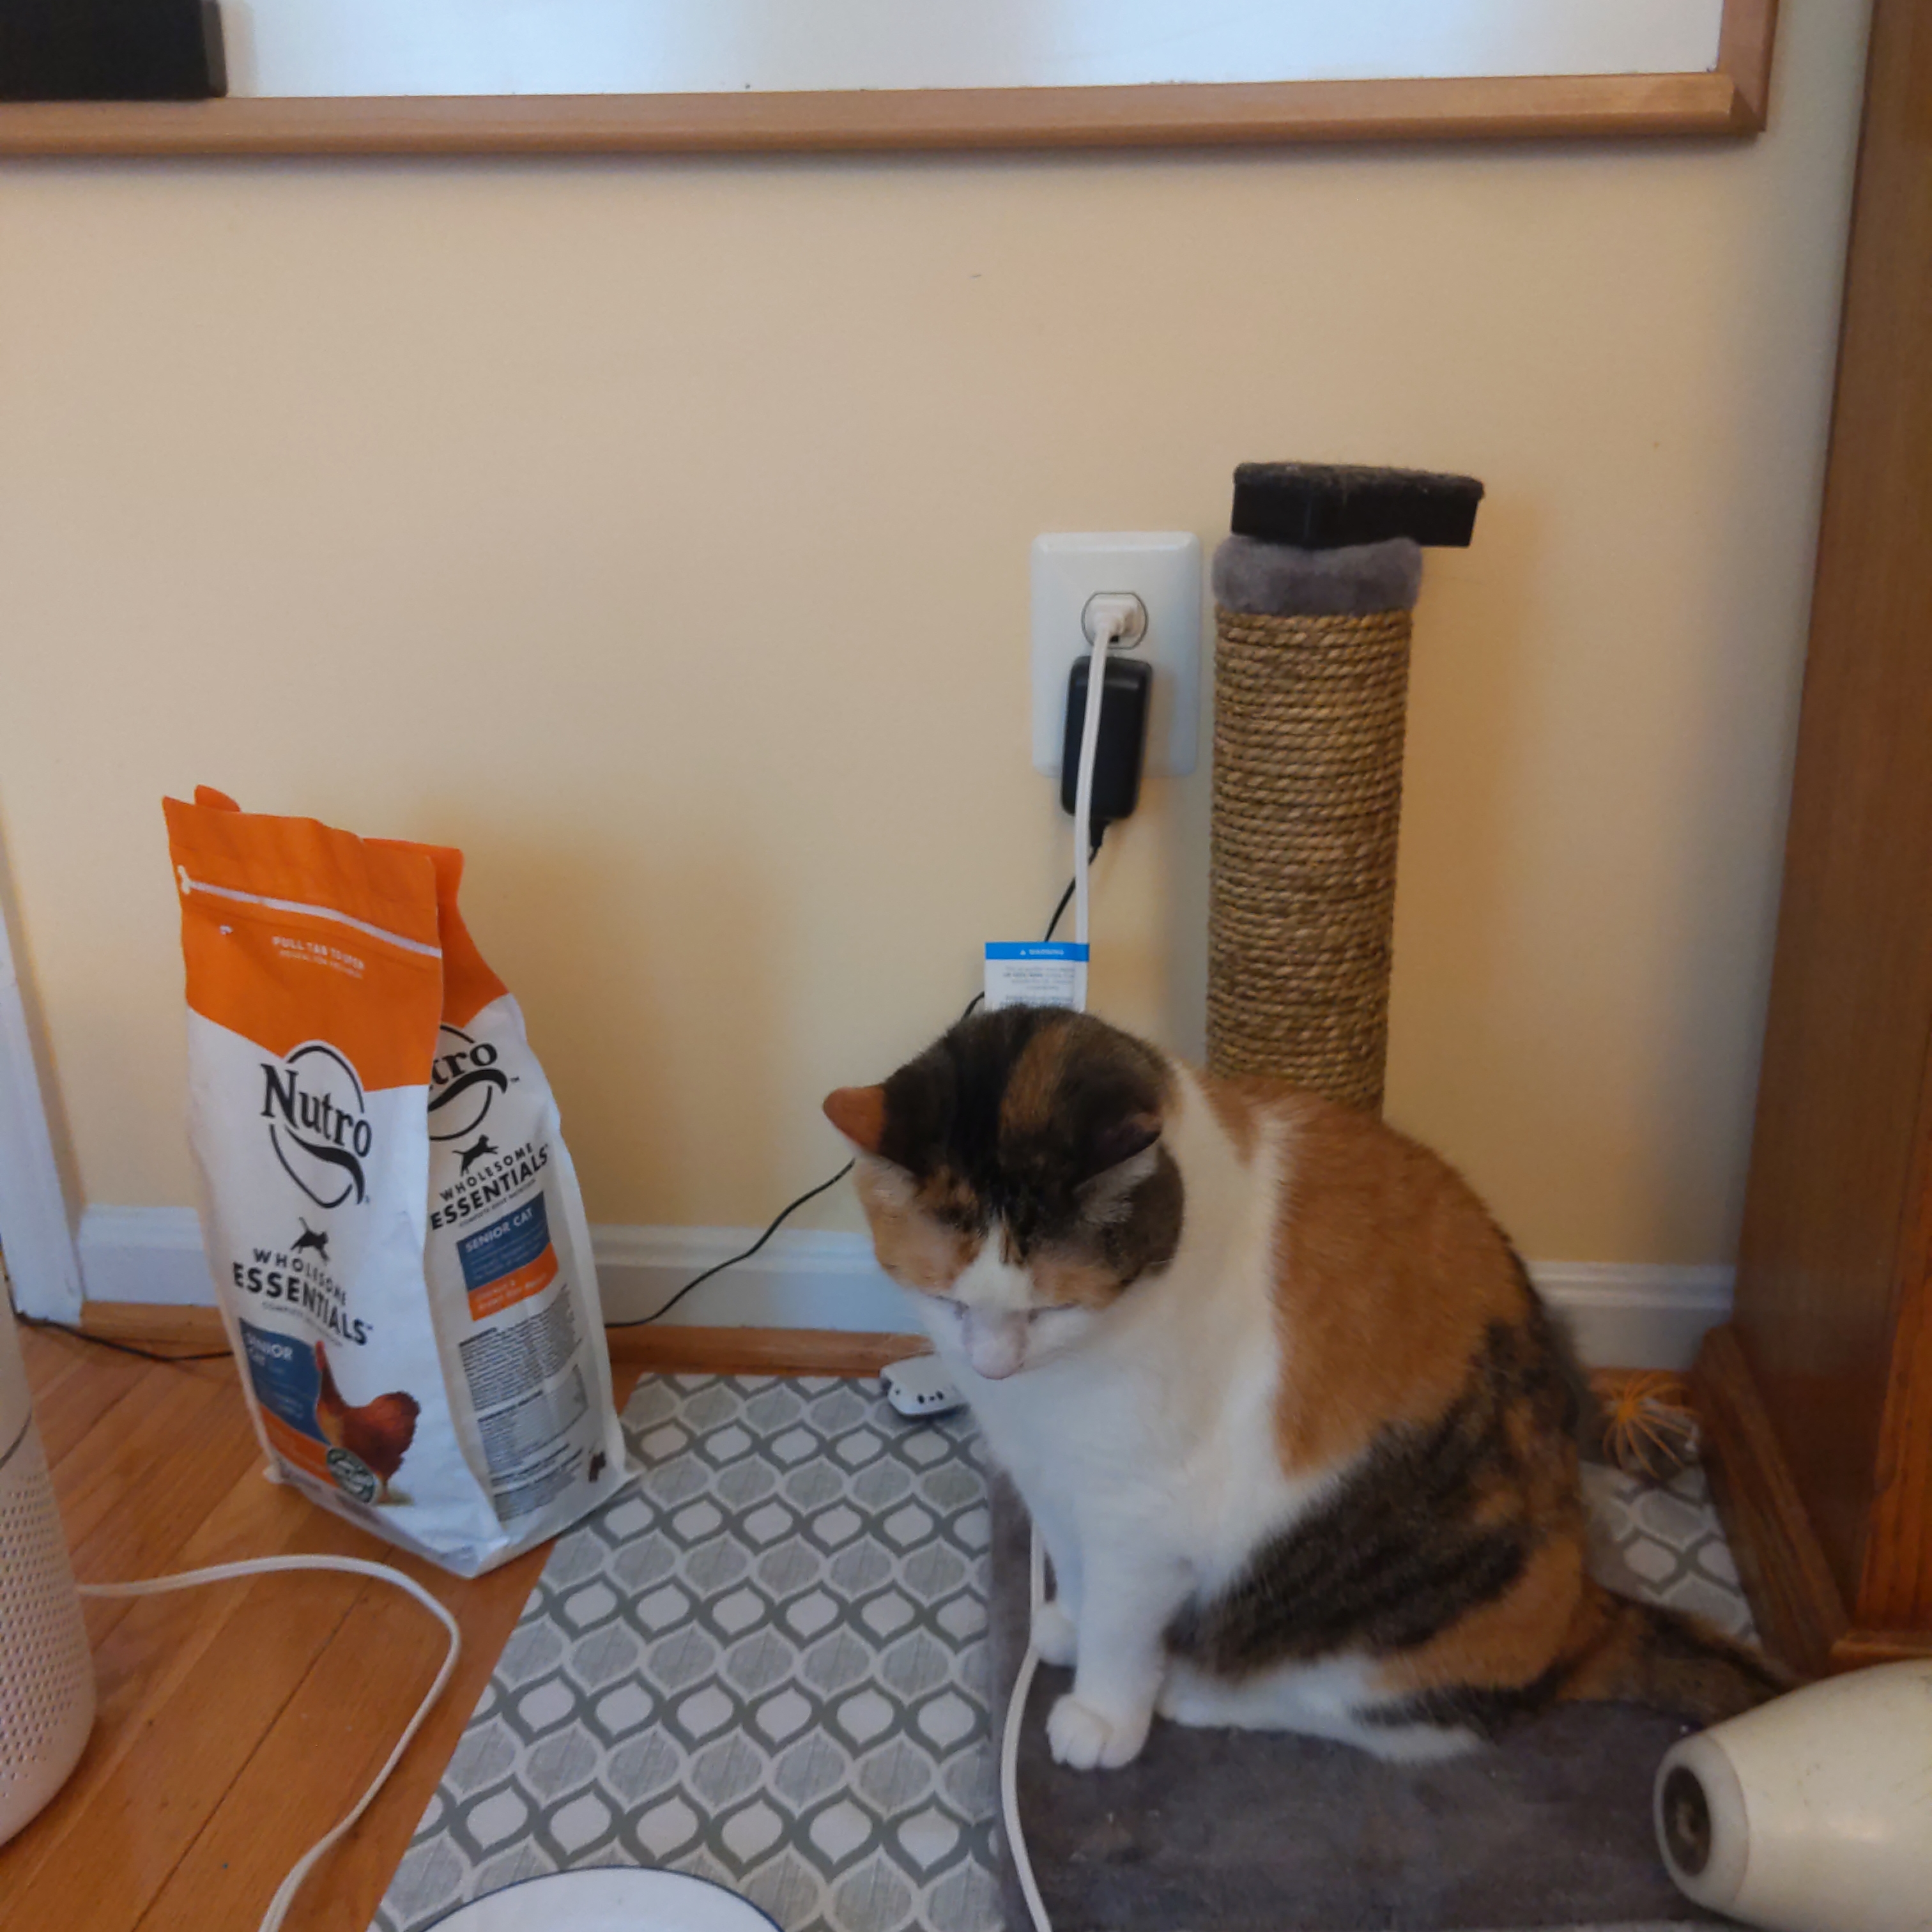Calico: (823, 1008, 1783, 1771)
